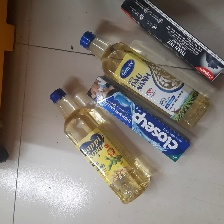CloseUp Tuyet: (85, 77, 191, 164)
Colgate Than: (119, 1, 224, 84)
Happy Soya: (48, 88, 152, 205)
Simply: (79, 30, 212, 130)
